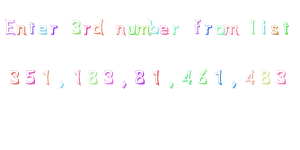,: (228, 76, 240, 92), (55, 78, 67, 92), (119, 78, 129, 93), (166, 78, 176, 89)
1: (151, 66, 164, 89), (41, 67, 55, 86), (213, 68, 227, 87), (72, 69, 85, 85)
3: (5, 65, 22, 89), (274, 64, 290, 87), (68, 15, 82, 37), (103, 66, 116, 85)
4: (180, 66, 195, 89), (242, 66, 258, 87)
5: (23, 66, 40, 88)
6: (197, 66, 211, 88)
8: (131, 65, 147, 85), (86, 67, 101, 86), (258, 67, 272, 87)
E: (2, 16, 17, 38)
b: (149, 16, 158, 36)
d: (93, 15, 107, 40)
e: (37, 21, 48, 36), (159, 23, 169, 39)
f: (189, 12, 202, 39)
i: (259, 19, 269, 38)
l: (246, 15, 257, 36)
m: (225, 22, 242, 38), (136, 20, 149, 39)
n: (113, 20, 127, 40), (15, 20, 27, 39)
o: (215, 21, 226, 38)
r: (170, 20, 182, 37), (50, 21, 61, 38), (82, 23, 92, 39), (204, 24, 214, 38)
s: (271, 23, 282, 39)
t: (26, 19, 36, 38), (282, 17, 291, 36)
u: (126, 20, 136, 37)
